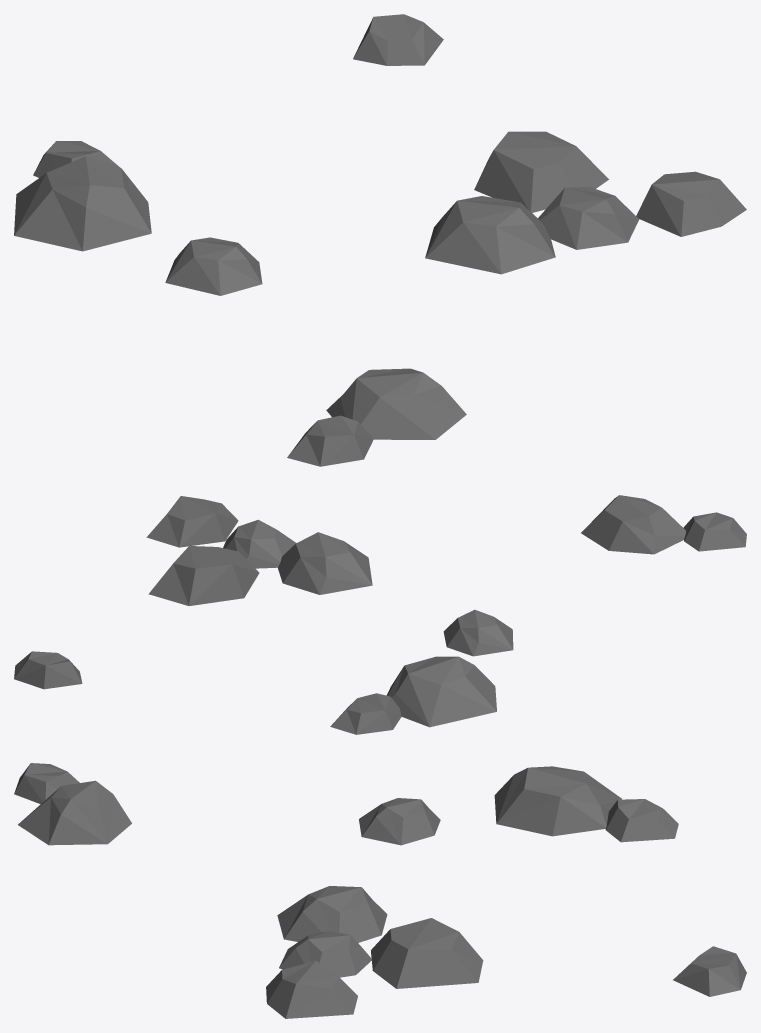
File: SM_Generic_Small_Rocks_01.glb
3 renders of one model, top to bottom at view 1: azimuth 30°, elevation 25°; view 2: azimuth 150°, elevation 25°; view 3: azimuth 270°, elevation 25°, orthographic. The views are drawn at different scales.
Visible parts, largest first — view 1: SM_Generic_Small_Rocks_01; view 2: SM_Generic_Small_Rocks_01; view 3: SM_Generic_Small_Rocks_01.
Boxes of the visible parts, left/top/right/bottom form: SM_Generic_Small_Rocks_01: left=14, top=14, right=746, bottom=466; SM_Generic_Small_Rocks_01: left=14, top=495, right=746, bottom=734; SM_Generic_Small_Rocks_01: left=14, top=763, right=746, bottom=1018.
Size of the model in its own units: 1.31 by 0.095 by 1.63.
Materials: 1 (1 with a texture image).
